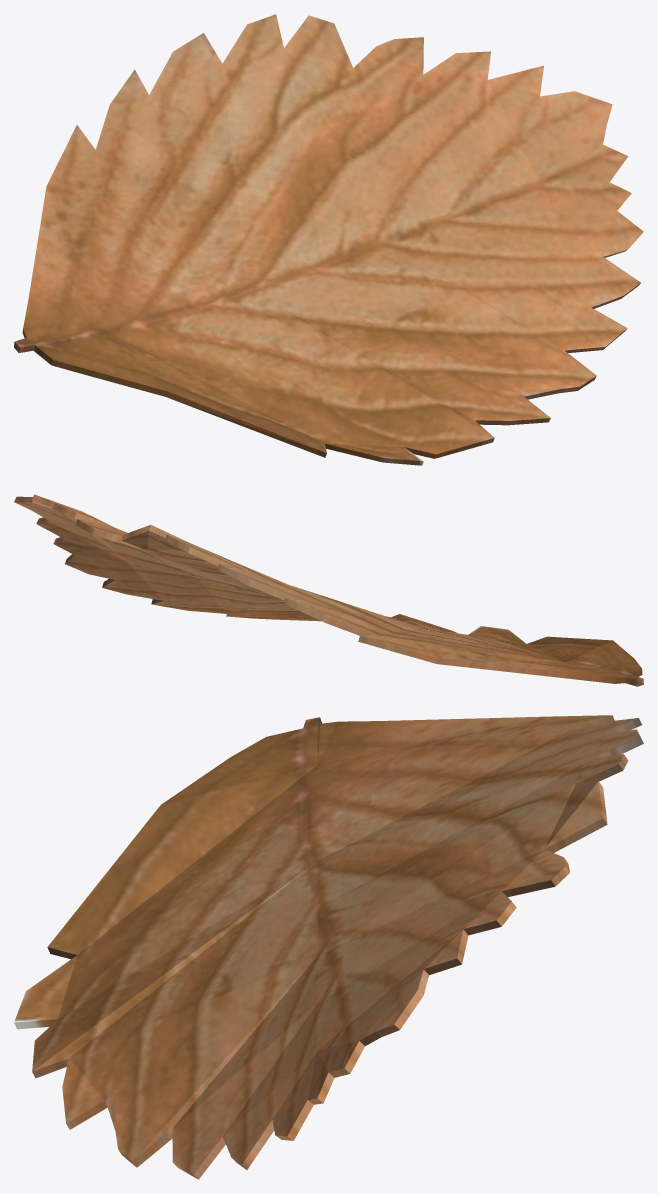
The model's file is leaf3_d2.dae.
The picture shows the model from 3 angles, top to bottom: view 1: azimuth 30°, elevation 25°; view 2: azimuth 150°, elevation 25°; view 3: azimuth 270°, elevation 25°; orthographic projection. The views are drawn at different scales.
Visible parts, largest first — view 1: Plane; view 2: Plane; view 3: Plane.
Boxes of the visible parts, <box> form: Plane: <box>14,14,643,465</box>; Plane: <box>14,494,643,686</box>; Plane: <box>14,715,643,1179</box>.
Bounding box in the file's own units: 0.1376 × 0.0946 × 0.055.
1 material, 1 textured.
